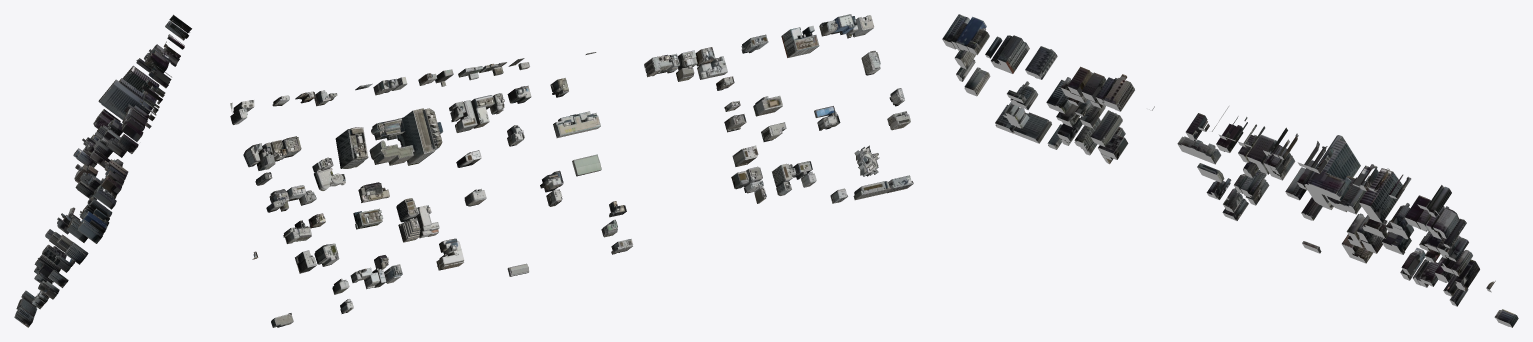
Rendered from 4943_bldg_Building.glb.
3 renders of one model, left to right at view 1: azimuth 30°, elevation 25°; view 2: azimuth 150°, elevation 25°; view 3: azimuth 270°, elevation 25°, orthographic. The views are drawn at different scales.
Size of the model in its own units: 701 by 264 by 777.
Materials: 3 (2 with a texture image).
